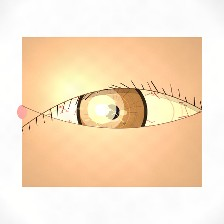corneal_ulcer: (78, 90, 126, 128)
